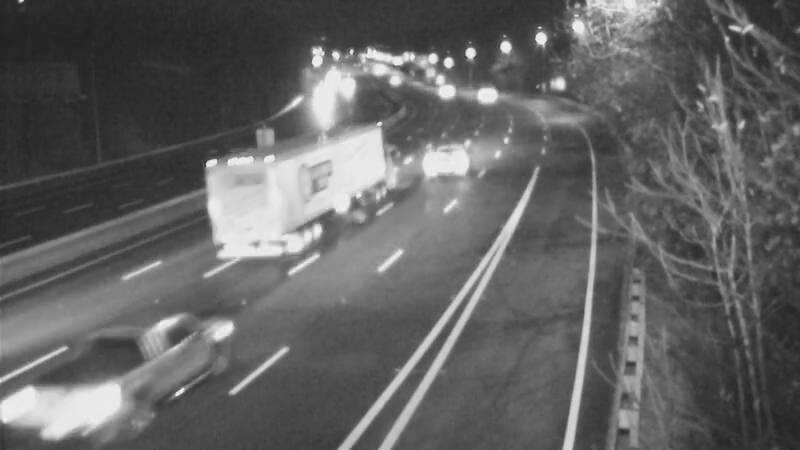vehicle: (70, 325, 180, 435), (410, 119, 490, 199), (222, 151, 302, 231), (418, 64, 468, 114), (456, 69, 506, 119), (297, 74, 347, 124)
